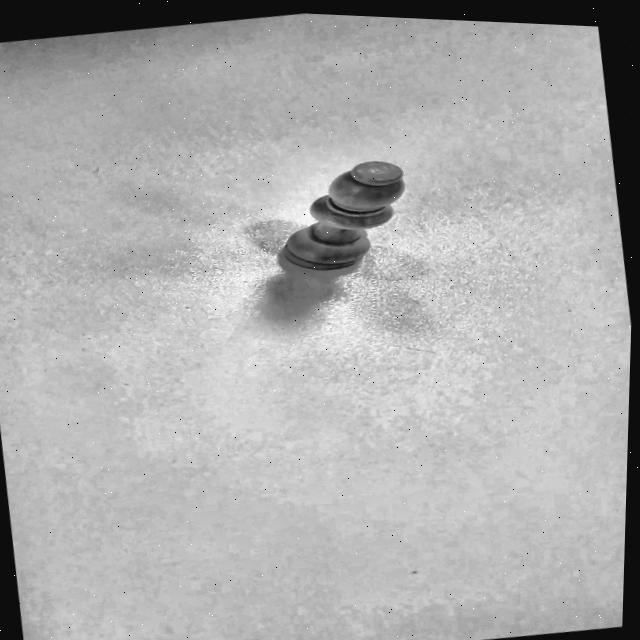white-bishop: (264, 160, 404, 320)
